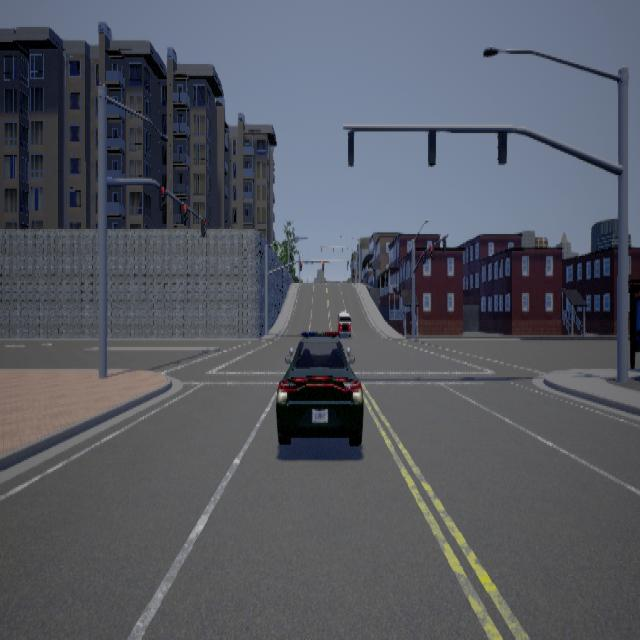red_light: (160, 183, 167, 209), (182, 202, 189, 224), (202, 217, 207, 236), (442, 234, 447, 252), (431, 242, 435, 258), (423, 249, 427, 263), (300, 261, 302, 271), (322, 260, 324, 270)
traffic_light: (348, 260, 350, 270), (358, 254, 360, 261)
vehicle: (277, 310, 365, 445), (337, 308, 355, 339)
